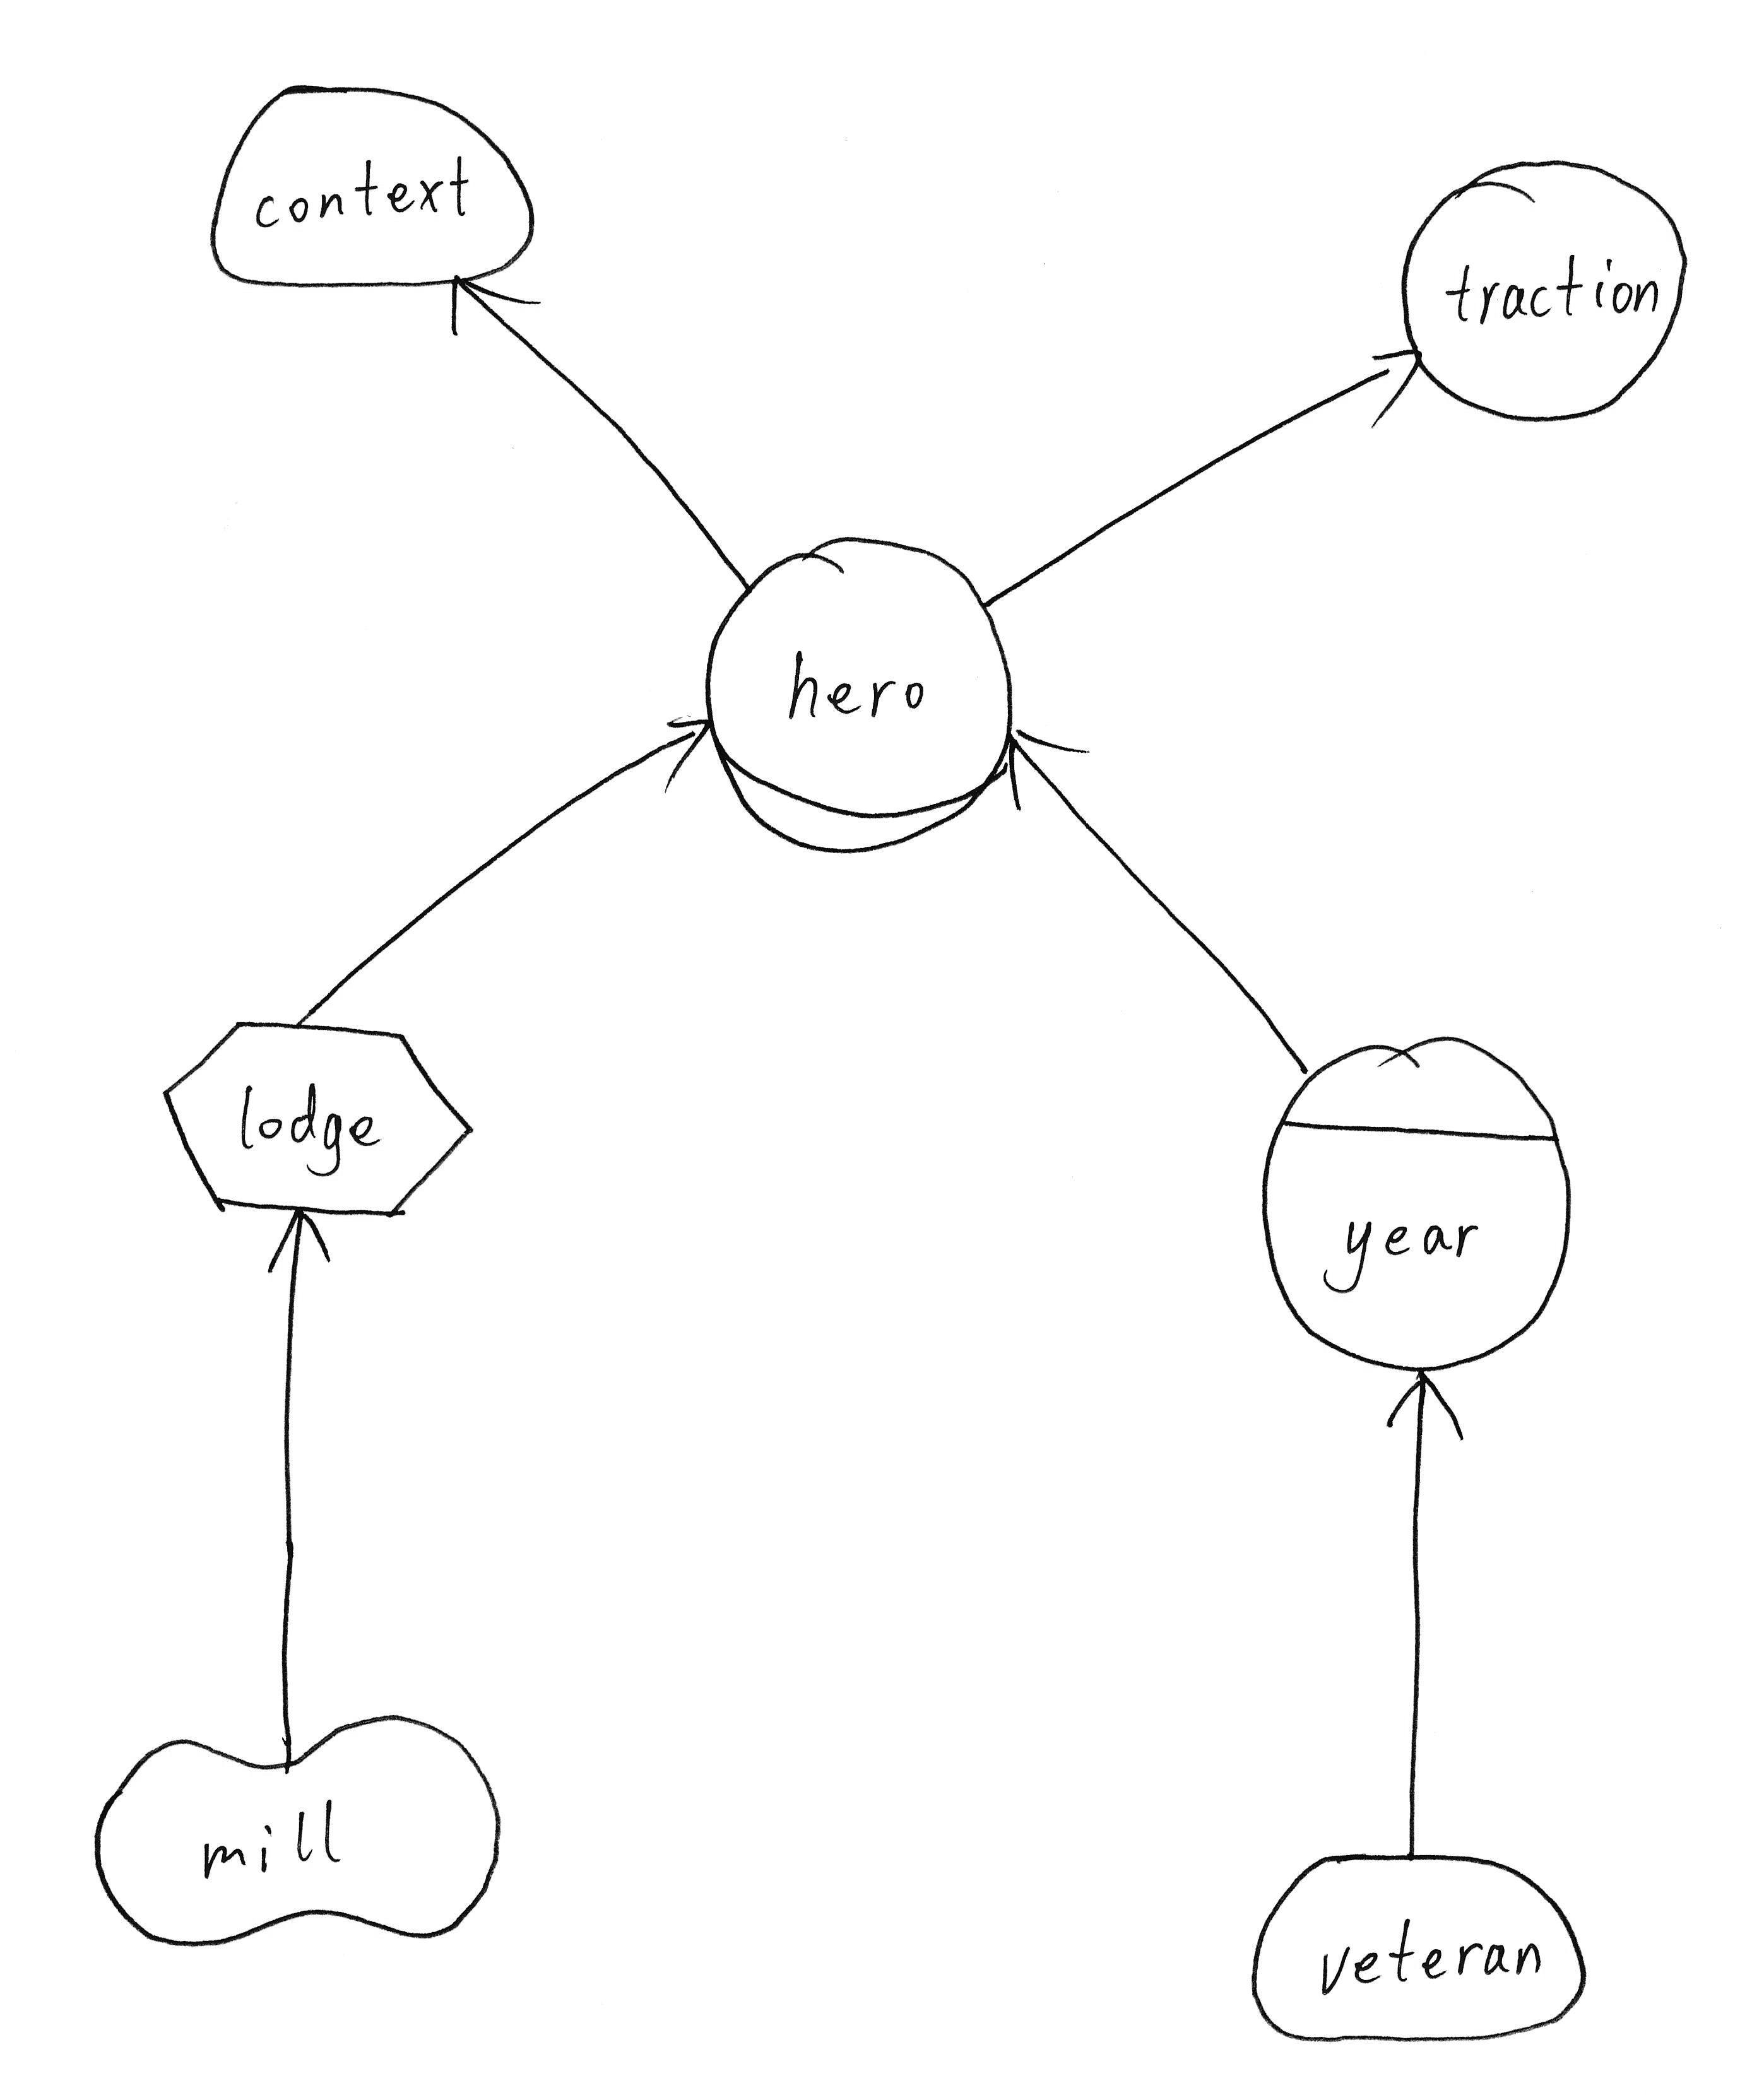actor: (1386, 138, 1704, 434)
agent: (1244, 1020, 1589, 1386)
arrow: (431, 259, 546, 352), (989, 719, 1096, 817), (259, 1195, 350, 1300), (1375, 1358, 1470, 1451), (1361, 331, 1440, 434), (656, 700, 730, 800)
goal: (196, 70, 555, 306), (1235, 1834, 1603, 2053)
quality: (79, 1699, 518, 1958)
role: (683, 518, 1038, 870)
task: (150, 1005, 480, 1232)
